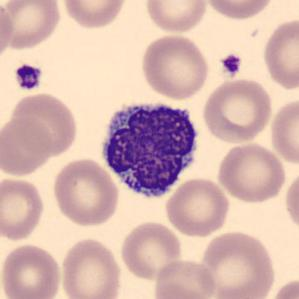Lymphocyte: (96, 93, 205, 205)
Platelets: (13, 62, 44, 92), (219, 52, 243, 78)
RBC: (198, 229, 278, 299), (200, 76, 274, 145), (50, 156, 120, 228), (138, 32, 211, 101), (6, 90, 80, 158), (215, 141, 288, 204), (58, 235, 124, 299), (163, 176, 231, 238), (118, 219, 184, 282), (0, 242, 64, 299), (0, 114, 54, 178), (0, 0, 63, 51), (0, 175, 47, 243), (260, 16, 298, 91), (151, 257, 218, 299), (142, 0, 209, 35), (268, 96, 299, 166), (59, 0, 129, 30), (202, 0, 275, 21), (283, 168, 299, 234), (0, 2, 15, 64), (267, 275, 299, 299)
